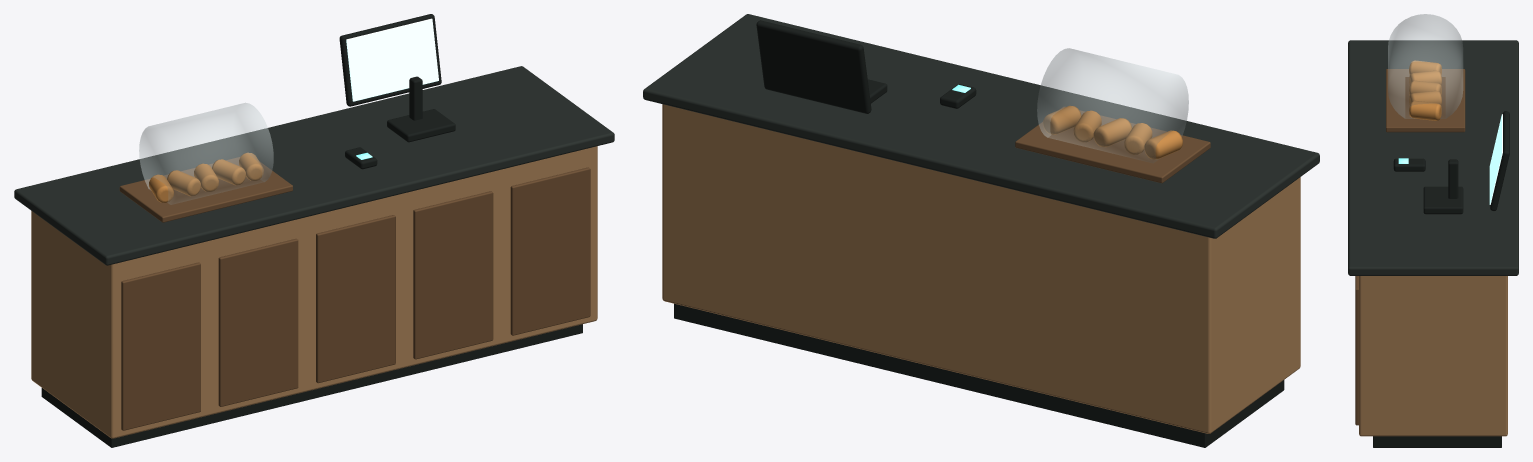
The model's file is mostrador.glb.
3 renders of one model, left to right at view 1: azimuth 30°, elevation 25°; view 2: azimuth 150°, elevation 25°; view 3: azimuth 270°, elevation 25°, orthographic. The views are drawn at different scales.
Visible parts, largest first — view 1: tapa, cuerpo.002, liston_1, liston_4, liston_3, liston_0, liston_2, domo, pos_pantalla, zocalo, exhibidor_base, pos_marco (+4 smaller); view 2: cuerpo.002, tapa, domo, zocalo, pos_marco, exhibidor_base, pan_0, pan_2, pan_4; view 3: tapa, cuerpo.002, domo, exhibidor_base, zocalo, pos_base, pos_marco, pos_pantalla, liston_4, pan_4, pos_brazo, datafono (+4 smaller).
Boxes of the visible parts, bbox=[...] form: tapa: bbox=[14, 66, 614, 265]; cuerpo.002: bbox=[31, 146, 597, 438]; liston_1: bbox=[218, 238, 298, 406]; liston_4: bbox=[510, 167, 590, 335]; liston_3: bbox=[413, 191, 493, 359]; liston_0: bbox=[121, 262, 200, 430]; liston_2: bbox=[316, 215, 395, 383]; domo: bbox=[139, 103, 273, 204]; pos_pantalla: bbox=[346, 18, 438, 101]; zocalo: bbox=[41, 324, 582, 447]; exhibidor_base: bbox=[119, 157, 292, 222]; pos_marco: bbox=[339, 14, 441, 106]; cuerpo.002: bbox=[662, 104, 1300, 433]; tapa: bbox=[643, 14, 1319, 238]; domo: bbox=[1037, 48, 1188, 162]; zocalo: bbox=[674, 303, 1284, 447]; pos_marco: bbox=[756, 20, 871, 113]; exhibidor_base: bbox=[1015, 106, 1210, 183]; pan_0: bbox=[1144, 130, 1182, 159]; pan_2: bbox=[1093, 118, 1131, 147]; pan_4: bbox=[1043, 105, 1081, 134]; tapa: bbox=[1348, 40, 1518, 275]; cuerpo.002: bbox=[1359, 276, 1507, 436]; domo: bbox=[1388, 14, 1462, 118]; exhibidor_base: bbox=[1386, 69, 1465, 132]; zocalo: bbox=[1373, 436, 1501, 447]; pos_base: bbox=[1423, 186, 1463, 214]; pos_marco: bbox=[1490, 111, 1509, 210]; pos_pantalla: bbox=[1489, 114, 1502, 204]; liston_4: bbox=[1355, 276, 1358, 425]; pan_4: bbox=[1409, 100, 1441, 120]; pos_brazo: bbox=[1448, 159, 1458, 198]; datafono: bbox=[1393, 158, 1425, 171].
Bounding box in the file's own units: 2.72 × 1.46 × 0.86.
